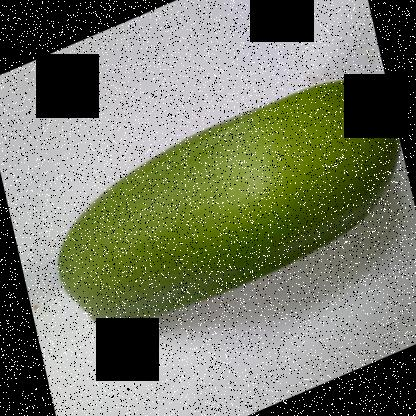freshunripe: (48, 64, 409, 348)
